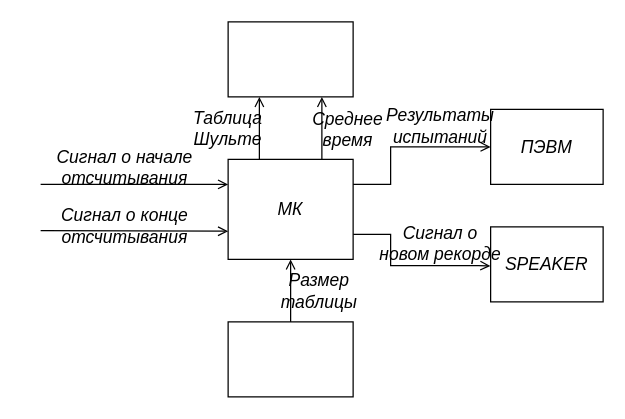
The diagram is 625 pixels wide and 419 high, and some of its shapes have lost their labels. Here are the shapes that lost their labels. From the top down, the box of each, then its label:
(227, 21, 353, 97): ЖК дисплей
(227, 321, 353, 397): Блок ввода размера таблицы
